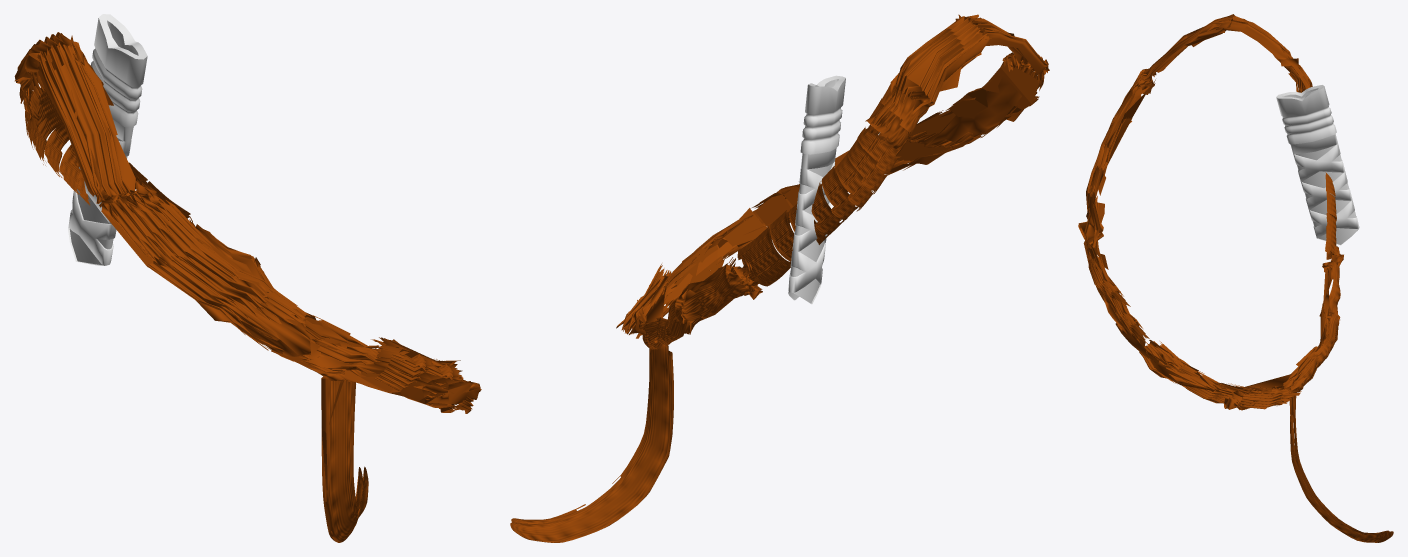
File: sword sheath.fbx
3 renders of one model, left to right at view 1: azimuth 30°, elevation 25°; view 2: azimuth 150°, elevation 25°; view 3: azimuth 270°, elevation 25°, orthographic. The views are drawn at different scales.
Visible parts, largest first — view 1: Waist Sash, Sheath; view 2: Waist Sash, Sheath; view 3: Waist Sash, Sheath.
Part boxes in pixels (x1,y1,x2,y2): Waist Sash: (14,32,481,542); Sheath: (68,14,147,265); Waist Sash: (510,14,1049,542); Sheath: (788,75,845,304); Waist Sash: (1078,14,1393,542); Sheath: (1276,85,1359,245).
Size of the model in its own units: 41.49 by 56.81 by 39.7.
